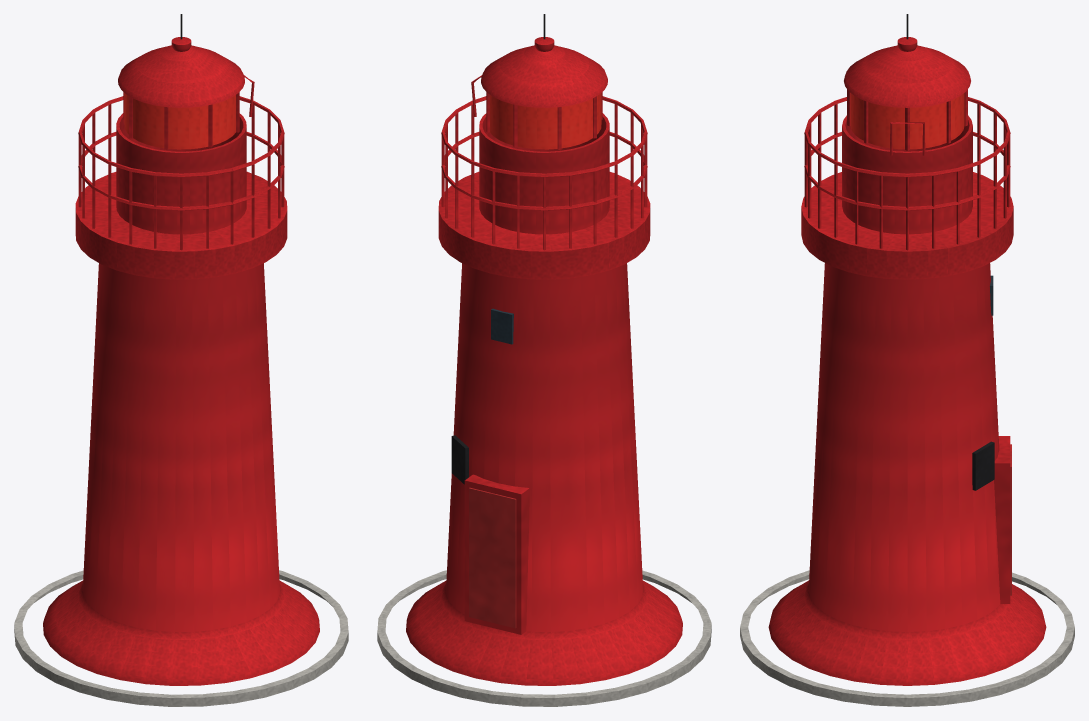
Rendered from SM_MoloItalia_Faro.fbx.
3 views of the same model, side by side, from view 1: azimuth 30°, elevation 25°; view 2: azimuth 150°, elevation 25°; view 3: azimuth 270°, elevation 25° (orthographic).
Parts seen in each view (by area): view 1: SM_MoloItalia_Faro; view 2: SM_MoloItalia_Faro; view 3: SM_MoloItalia_Faro.
Part boxes in pixels (left/top/right/bottom): SM_MoloItalia_Faro: left=14, top=14, right=348, bottom=706; SM_MoloItalia_Faro: left=377, top=14, right=711, bottom=706; SM_MoloItalia_Faro: left=740, top=14, right=1074, bottom=706.
Size of what is drawn, in the model's own units: 410 by 410 by 840.
Materials: 2 (2 with a texture image).
